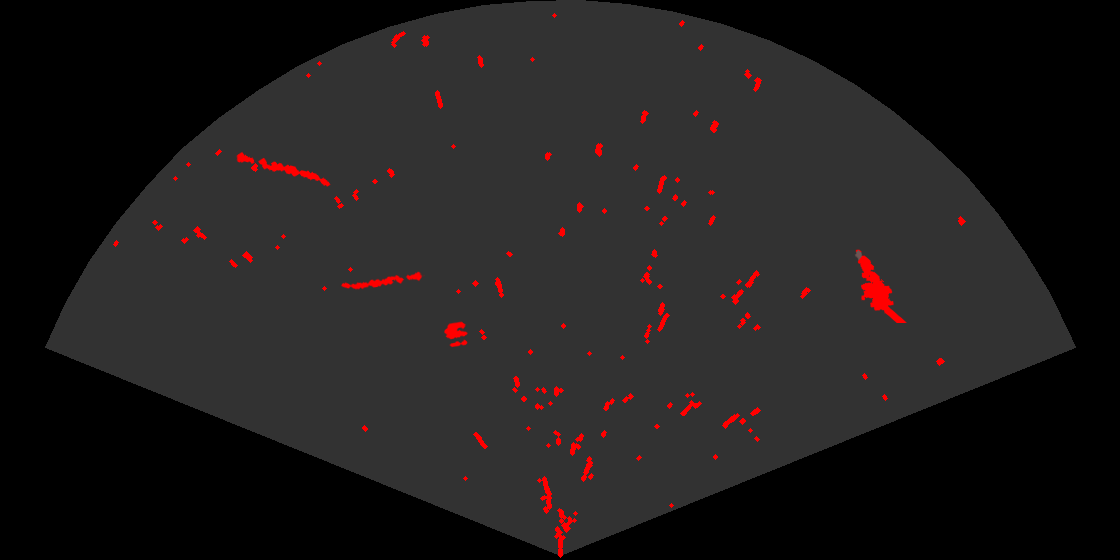ball: (443, 320, 469, 349)
chain: (234, 150, 332, 188), (339, 270, 425, 291)
frogman: (854, 248, 908, 323)
